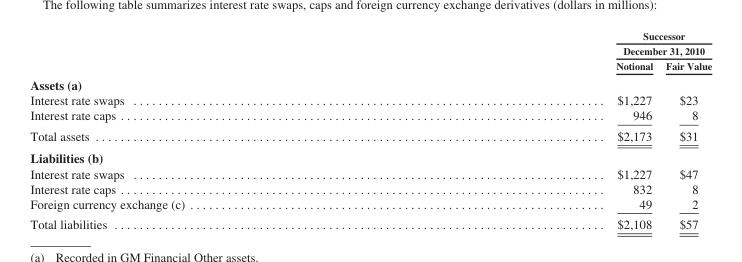table: (29, 29, 711, 230)
table column: (29, 29, 399, 230), (399, 29, 658, 230), (658, 29, 711, 230)
table column header: (29, 29, 711, 74)
table projected row header: (29, 146, 711, 165), (29, 74, 711, 92)
table row: (29, 29, 711, 57), (29, 125, 711, 146), (29, 146, 711, 165), (29, 74, 711, 92), (29, 107, 711, 125), (29, 195, 711, 213), (29, 57, 711, 74), (29, 213, 711, 230), (29, 92, 711, 107), (29, 165, 711, 180), (29, 180, 711, 195)
table spanning cell: (399, 29, 711, 57)
